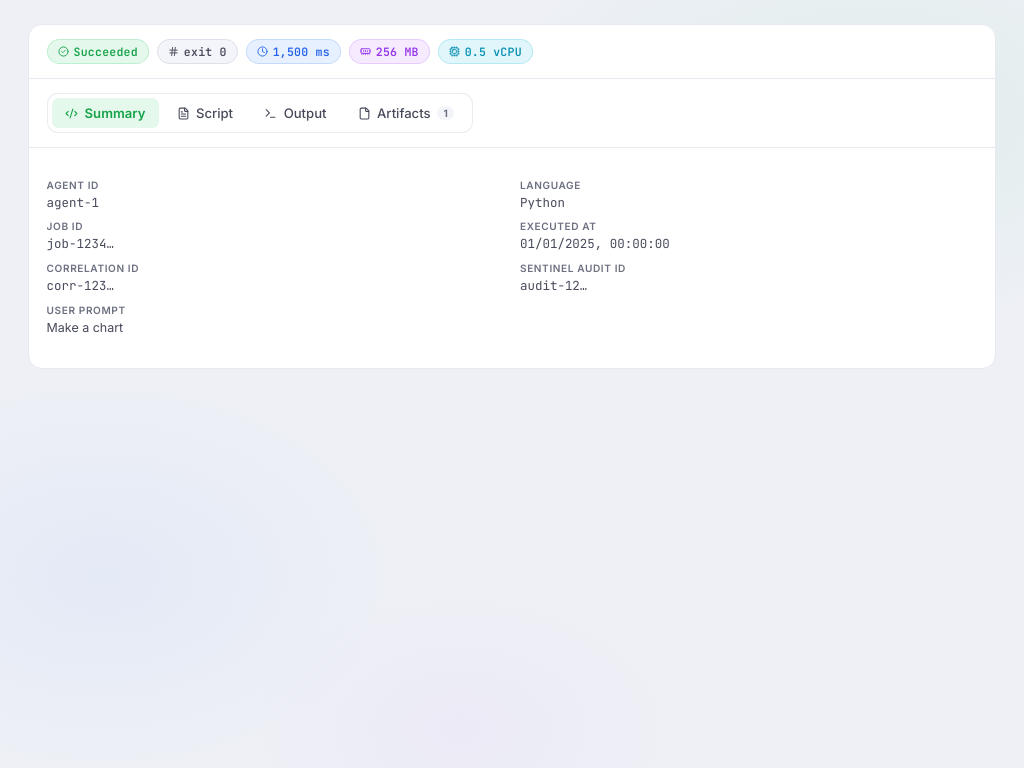
Test case: SandboxRunDetail tabs › shows artifacts on the Artifacts tab
Click the tab "Artifacts 1". click: (406, 113)
box: [344, 98, 468, 128]
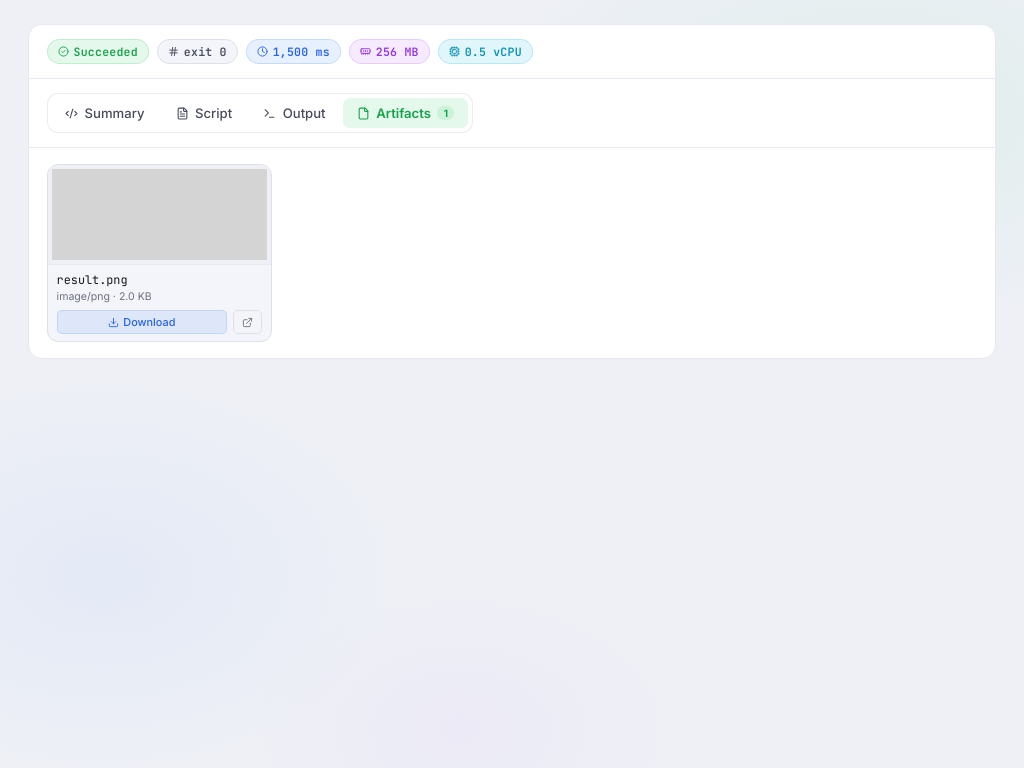
Check: the text "result.png" is shown, box [57, 272, 128, 288]
